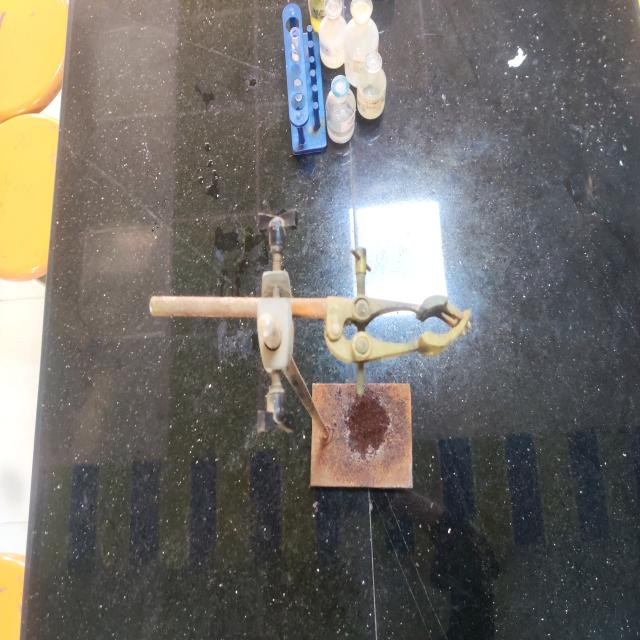Burette_Stands: (141, 190, 491, 550)
